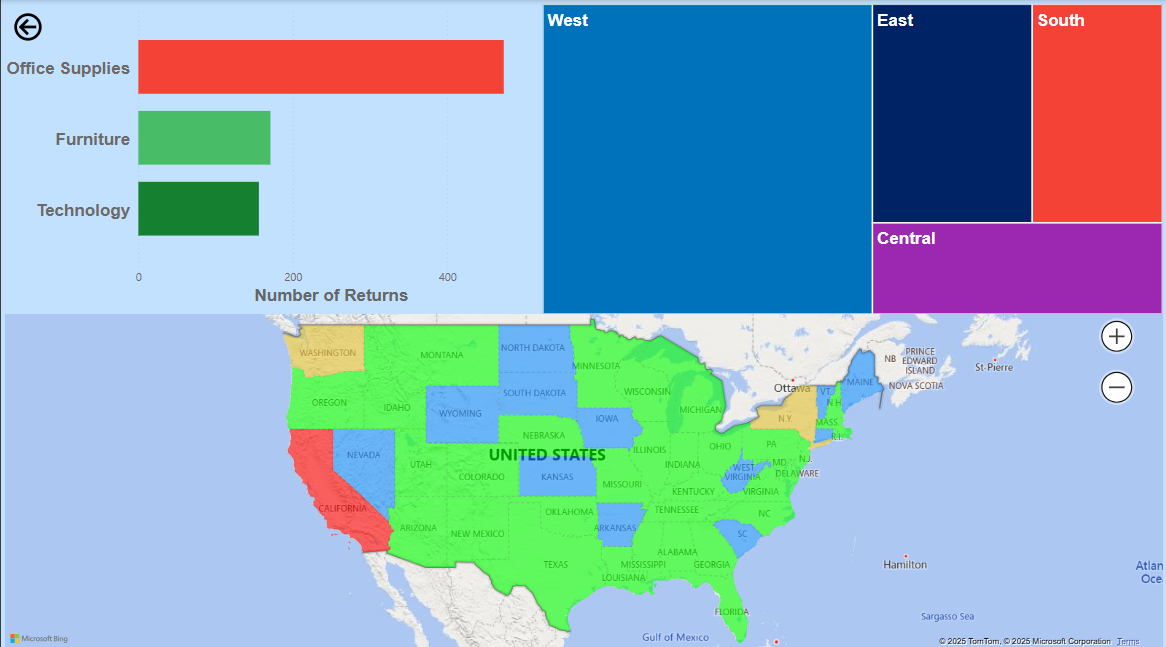

Layout of this report page (visuals, bound fields, positions):
{"tool":"powerbi","page":{"name":"Return Analysis ","canvas":[1280,720],"ordinal":4},"visuals":[{"type":"barChart","fields":{"Category":["Orders.Category"],"Y":["key Measures.Number of Returns"]},"box":[0,0,590,340],"z":0},{"type":"treemap","fields":{"Group":["Orders.Region"],"Values":["key Measures.Return Rate"]},"box":[590,0,690,350],"z":1000},{"type":"filledMap","fields":{"Category":["Orders.State"]},"box":[0,340,1280,380],"z":2000},{"type":"actionButton","box":[10,10,100,40],"z":3000}]}

Visuals, with their boxes in screenshot pixels (x1, y1, x2, y2), scaled from the page's 1280x720 canvas onto the 1166x647 screenshot:
barChart - Orders.Category x key Measures.Number of Returns: 0, 0, 537, 306
treemap - Orders.Region x key Measures.Return Rate: 537, 0, 1165, 315
filledMap - Orders.State: 0, 306, 1165, 646
actionButton: 9, 9, 100, 45
